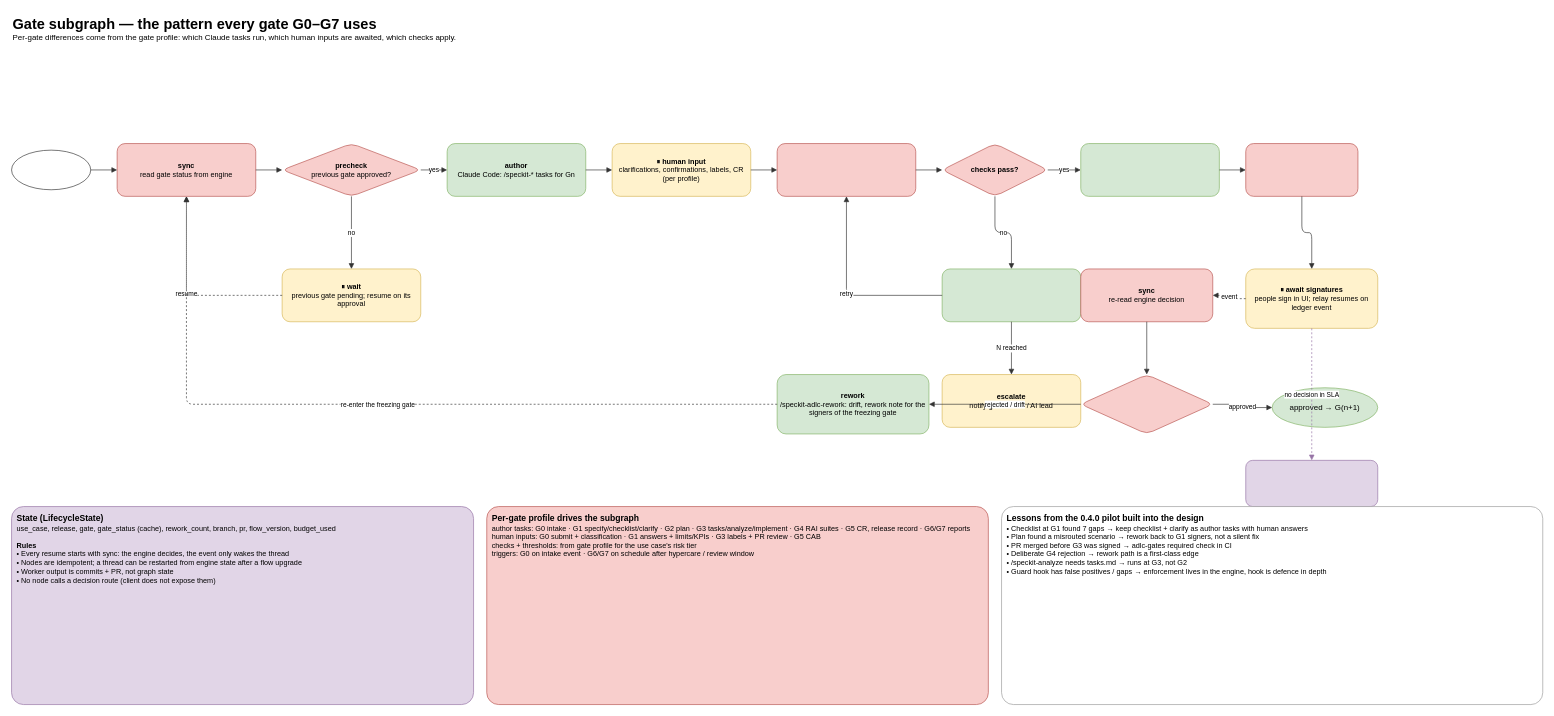
Some shapes in this 1554 by 716 pixel diagram are drawn without their labels. Here are the shapes that lost their labels. From the top down, the centre of each, then its label:
At (51,169): "enter Gn".
At (846,169): "check engine: GET /lifecycle/gates/Gn".
At (1149,169): "brief /speckit-adlc-gate Gn --json → briefs/Gn.md".
At (1301,169): "verify-ledger".
At (1011,295): "fix-loop Claude fixes failing checks (max N)".
At (1146,404): "decision?".
At (1311,483): "SLA timer reminder → escalation".
